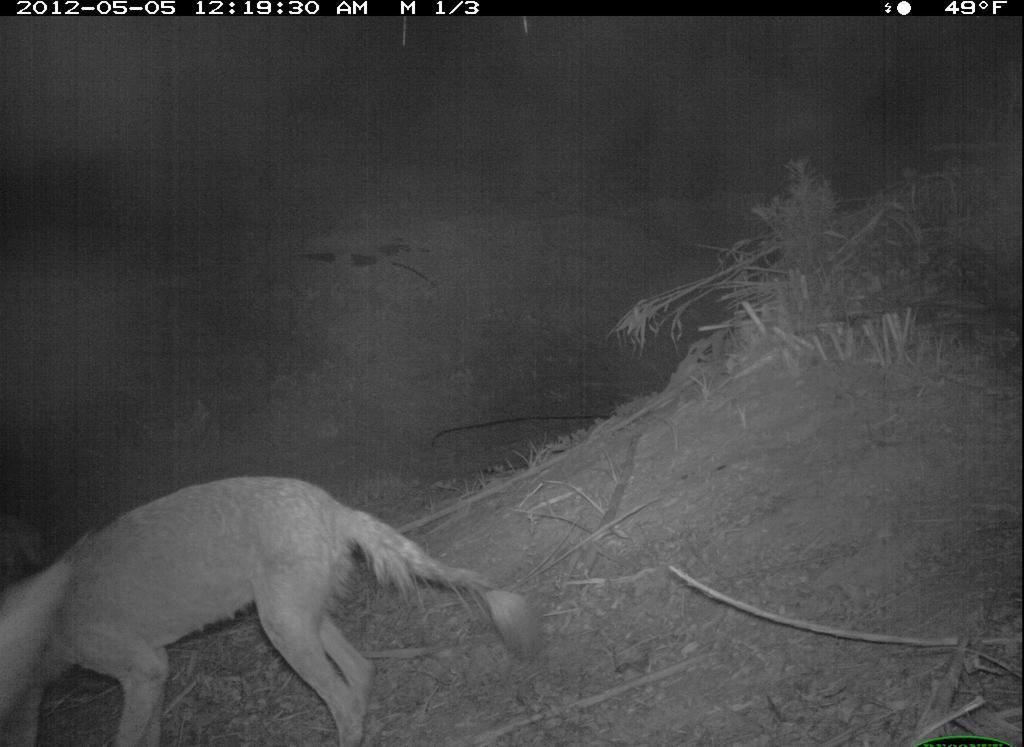coyote: (4, 466, 556, 745)
